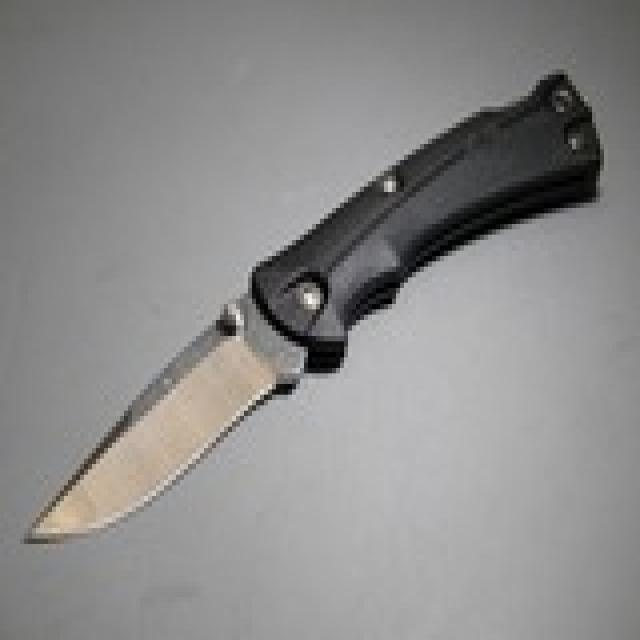Knife: (16, 58, 614, 560)
